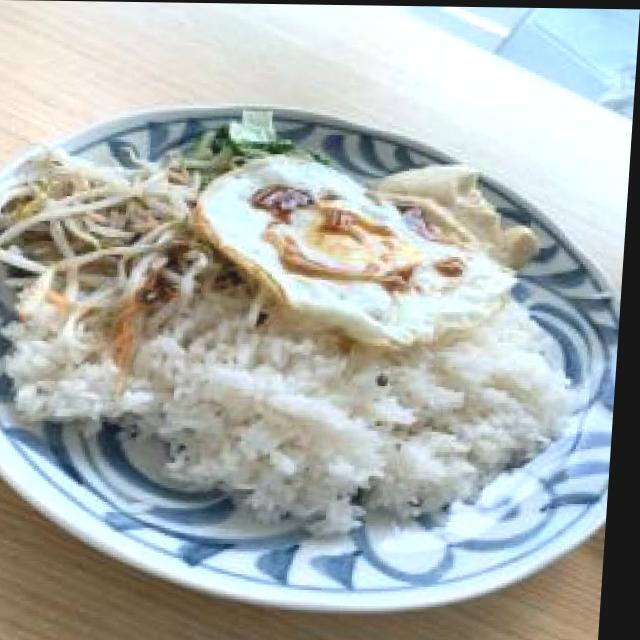fried_eggs: (195, 152, 520, 349)
mung_bean_sprouts: (33, 164, 202, 288)
rice: (177, 337, 502, 484)
